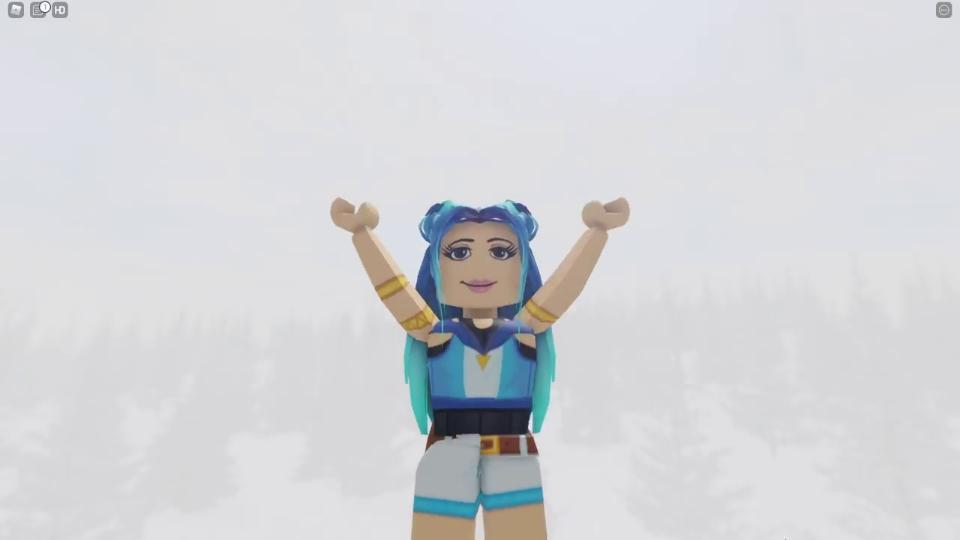Character: (331, 198, 631, 540)
